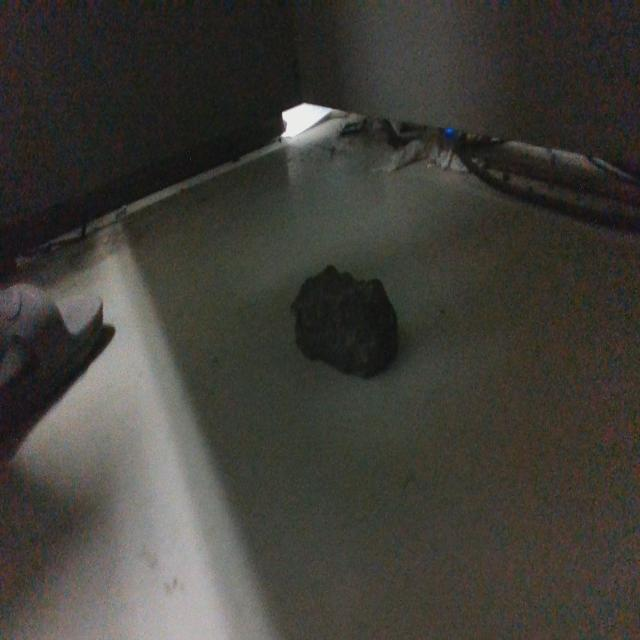stone: (292, 265, 400, 379)
